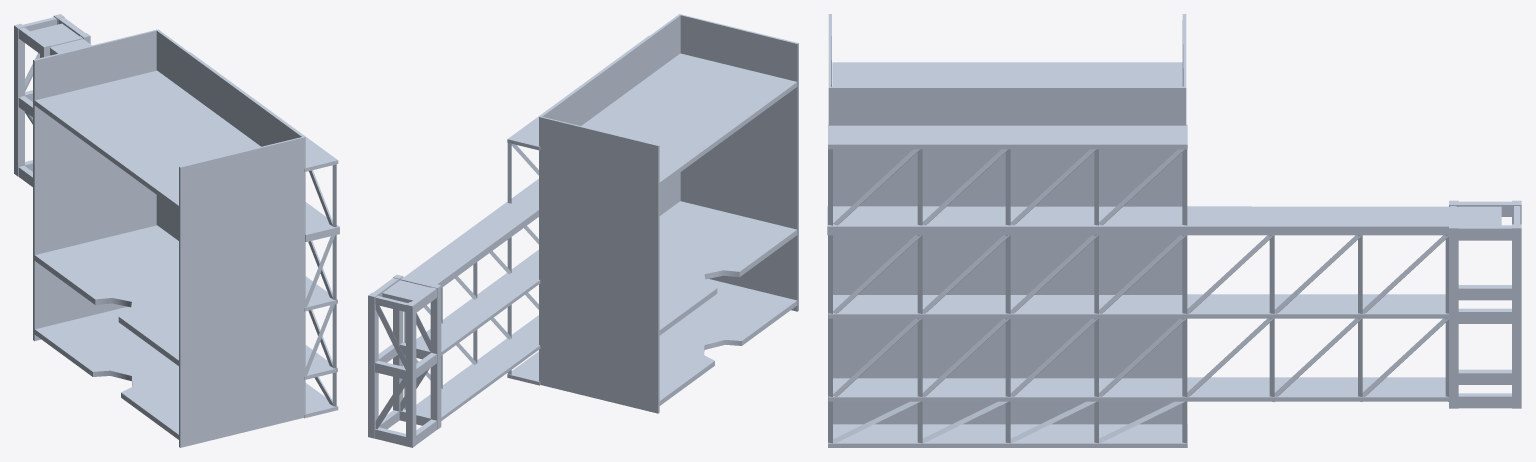
Rendered from FaSheTa-Bi01.FBX.
3 views of the same model, side by side, from view 1: azimuth 30°, elevation 25°; view 2: azimuth 150°, elevation 25°; view 3: azimuth 270°, elevation 25° (orthographic). The views are drawn at different scales.
Visible parts, largest first — view 1: FaSheTa-Bi01; view 2: FaSheTa-Bi01; view 3: FaSheTa-Bi01.
Part boxes in pixels (left/top/right/bottom): FaSheTa-Bi01: left=14, top=14, right=339, bottom=447; FaSheTa-Bi01: left=368, top=14, right=798, bottom=447; FaSheTa-Bi01: left=827, top=14, right=1521, bottom=447.
Bounding box in the file's own units: 38.65 × 62.52 × 115.
